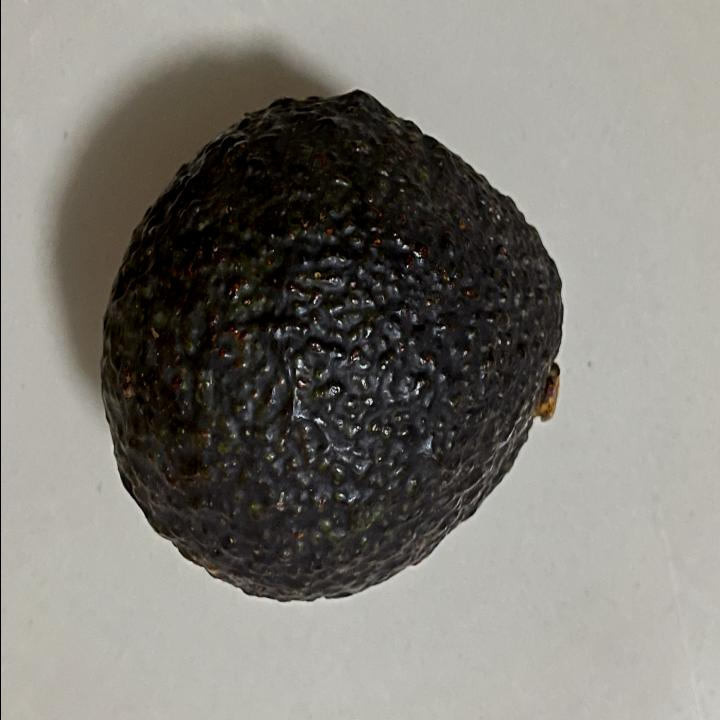Level1: (89, 81, 581, 619)
